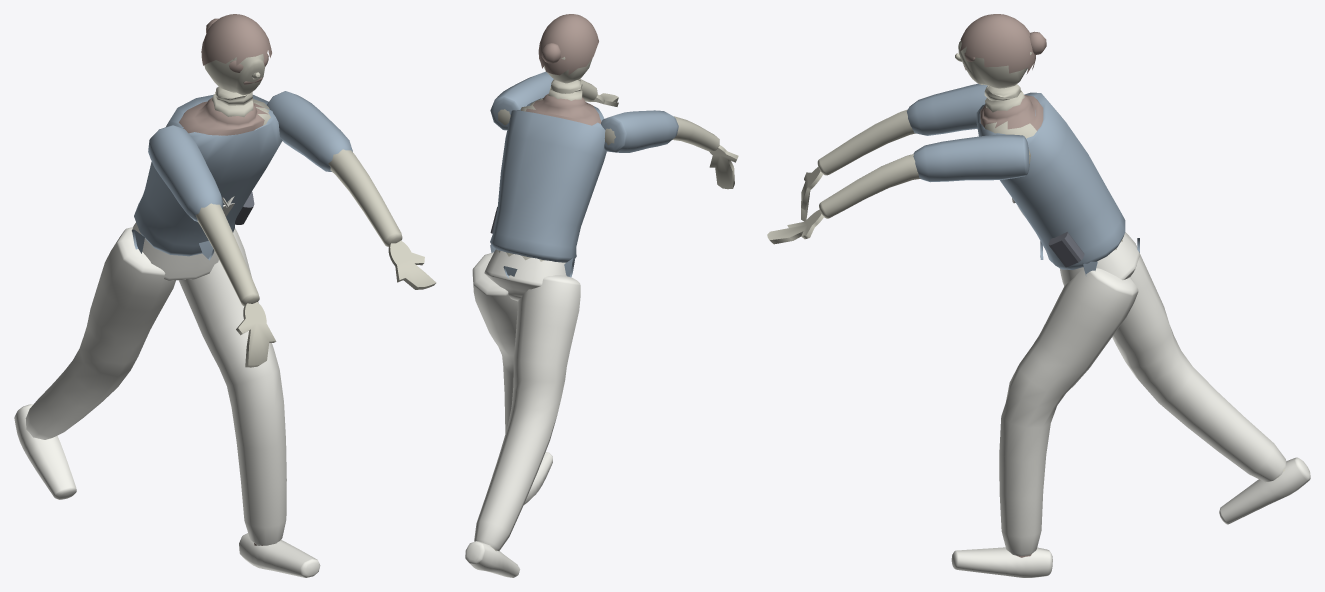
The model's file is undead-horde-and-infected-variants-walker-ward-nurse-l-0f8b0b1e__11992.glb.
3 renders of one model, left to right at view 1: azimuth 30°, elevation 25°; view 2: azimuth 150°, elevation 25°; view 3: azimuth 270°, elevation 25°, orthographic. The views are drawn at different scales.
Parts seen in each view (by area): view 1: walker-ward-nurse-lunging; view 2: walker-ward-nurse-lunging; view 3: walker-ward-nurse-lunging.
Boxes of the visible parts, x1,y1,x2,y2 form: walker-ward-nurse-lunging: (14, 14, 436, 577); walker-ward-nurse-lunging: (465, 14, 738, 577); walker-ward-nurse-lunging: (767, 14, 1310, 577).
Bounding box in the file's own units: 0.5332 × 1.55 × 1.41.
